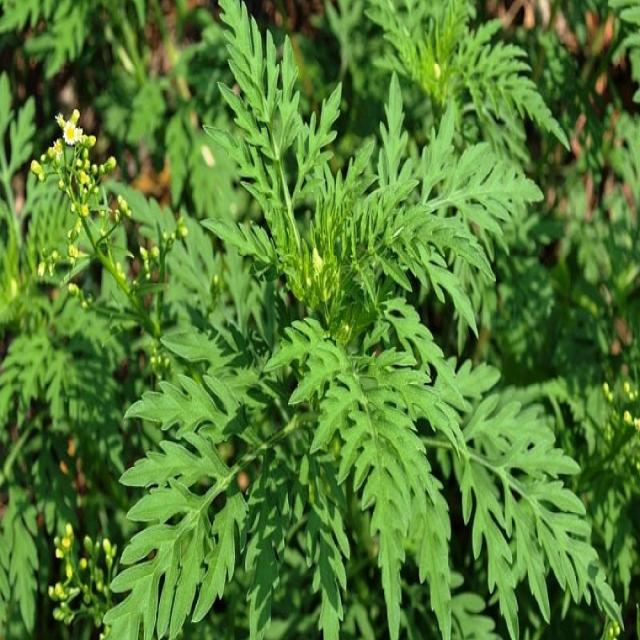ambrosia: (132, 29, 558, 594)
